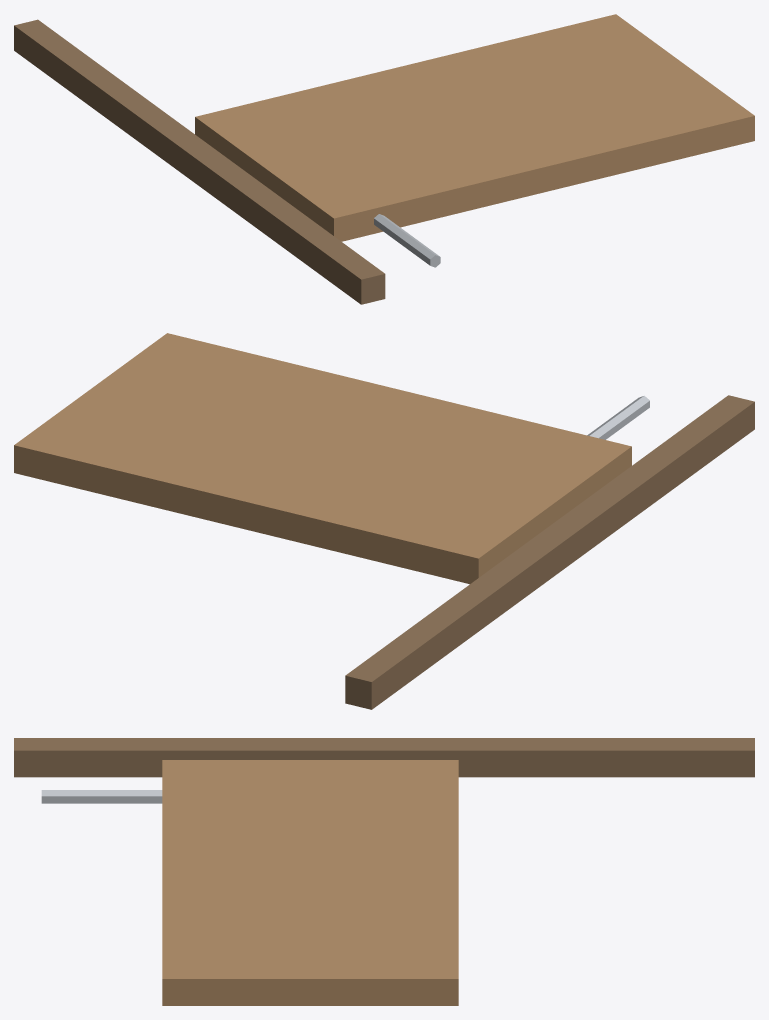
File: shop_sign_hanging.glb
3 renders of one model, top to bottom at view 1: azimuth 30°, elevation 25°; view 2: azimuth 150°, elevation 25°; view 3: azimuth 270°, elevation 25°, orthographic. The views are drawn at different scales.
Parts seen in each view (by area): view 1: sign, post, chain; view 2: sign, post, chain; view 3: sign, post, chain.
Part boxes in pixels (x1=…): sign: x1=195, y1=14, x2=754, y2=241; post: x1=14, y1=19, x2=385, y2=304; chain: x1=374, y1=214, x2=440, y2=267; sign: x1=14, y1=333, x2=631, y2=584; post: x1=345, y1=395, x2=754, y2=709; chain: x1=587, y1=395, x2=649, y2=439; sign: x1=162, y1=760, x2=458, y2=1005; post: x1=14, y1=738, x2=754, y2=777; chain: x1=41, y1=790, x2=162, y2=803.
Size of the model in its own units: 1.54 by 0.08 by 2.
